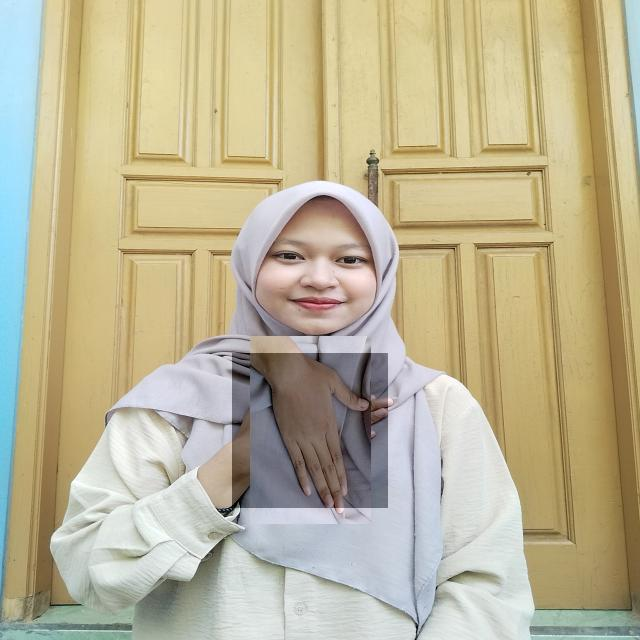tolong: (232, 353, 388, 508)
